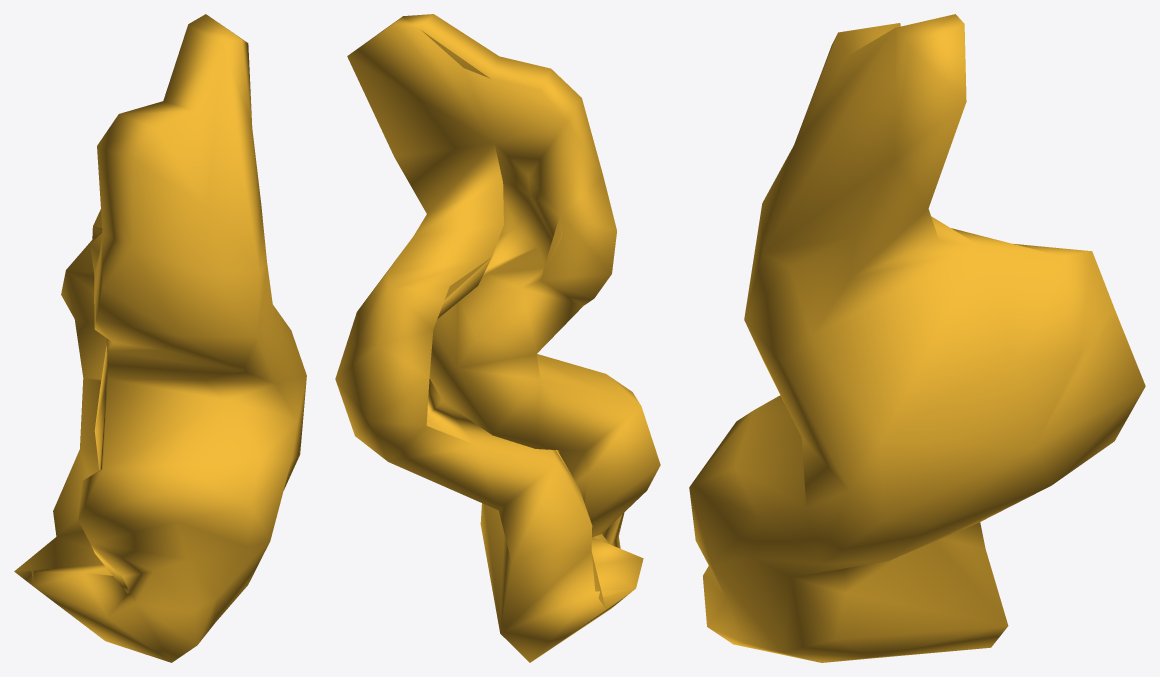
The model's file is nervoso-sulcus-interm-prim-jensen-r.glb.
3 views of the same model, side by side, from view 1: azimuth 30°, elevation 25°; view 2: azimuth 150°, elevation 25°; view 3: azimuth 270°, elevation 25° (orthographic). The views are drawn at different scales.
Visible parts, largest first — view 1: Sulcus interm_prim-Jensen.r; view 2: Sulcus interm_prim-Jensen.r; view 3: Sulcus interm_prim-Jensen.r.
Boxes of the visible parts, <box> form: Sulcus interm_prim-Jensen.r: <box>14,14,306,662</box>; Sulcus interm_prim-Jensen.r: <box>335,14,660,662</box>; Sulcus interm_prim-Jensen.r: <box>689,14,1145,662</box>.
Size of the model in its own units: 0.0137 by 0.0283 by 0.0165.
